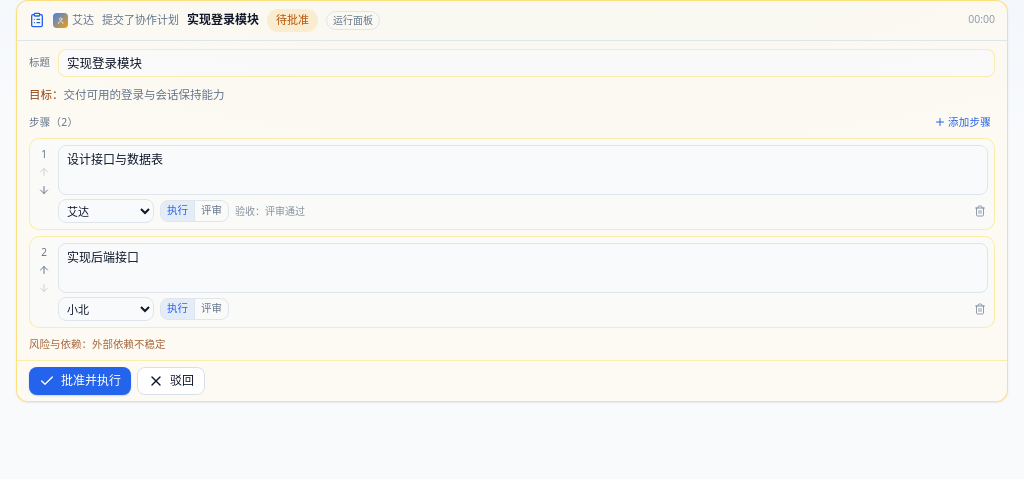
Test case: PlanReviewCard（M24 聊天计划卡） › 驳回竞态：v2 先到（同批渲染不卸载）后，旧回包不覆盖且表单自动收起
This screenshot has width=1024, height=479.
Click the button "驳回" at (171, 381), box [137,367,205,395]
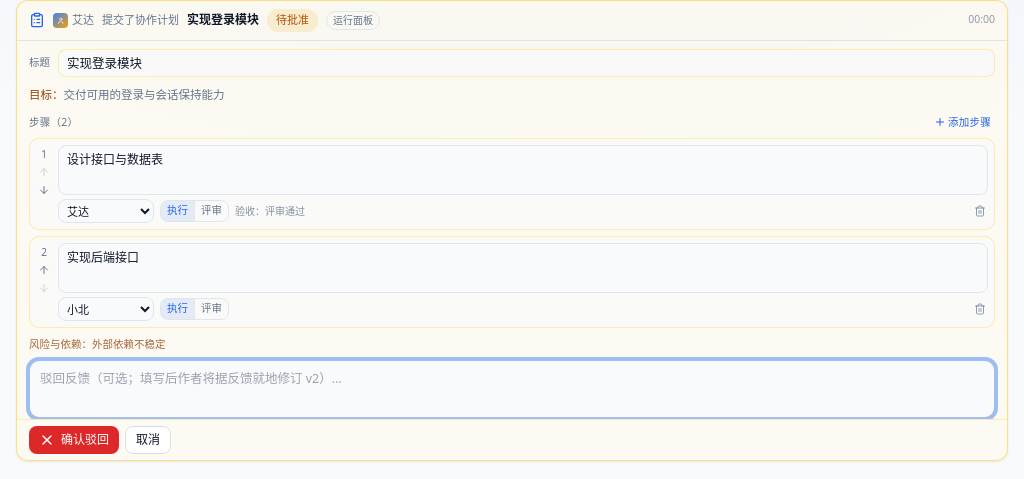
Type "请补充验收标准" into the text box with placeholder "驳回反馈（可选；填写后作者将据反馈就地修订 v2）…" at (512, 389), box [29,360,995,418]
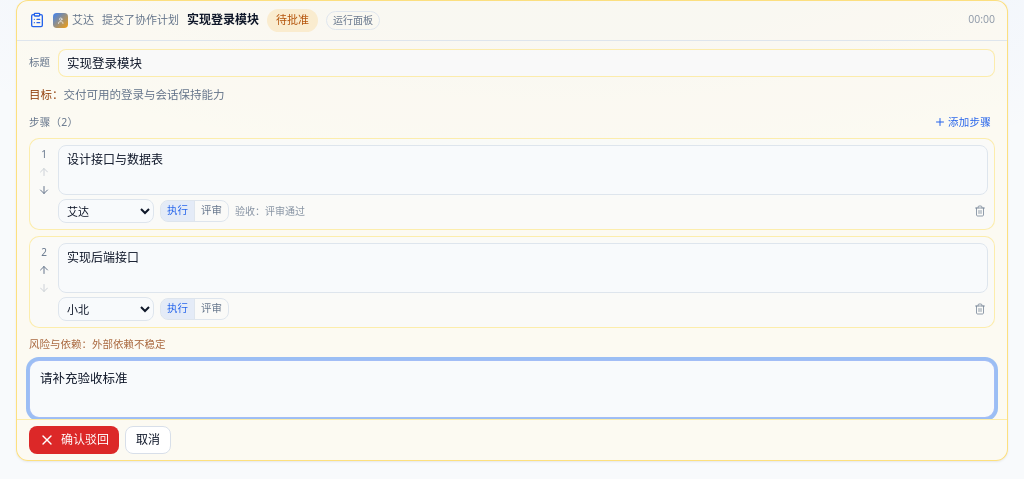
Click the button "确认驳回" at (74, 440), box [29,426,119,454]
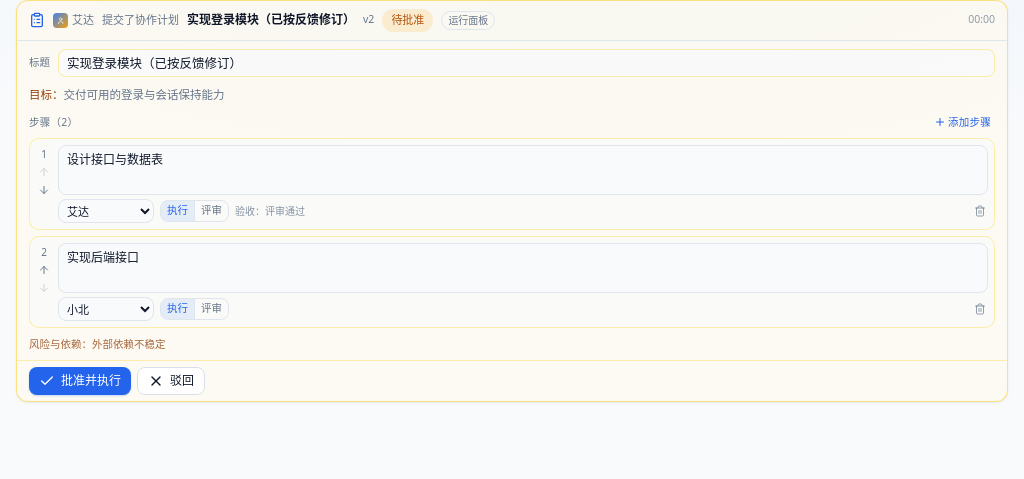
Expected: the button "确认驳回" is gone
Expected: the button "批准并执行" is shown, [29,367,131,395]
Expected: the text "v2" is shown, [363,12,374,28]
